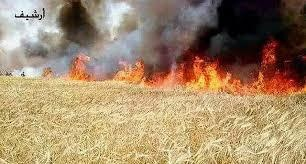fire: (137, 41, 306, 94), (61, 53, 97, 82)
